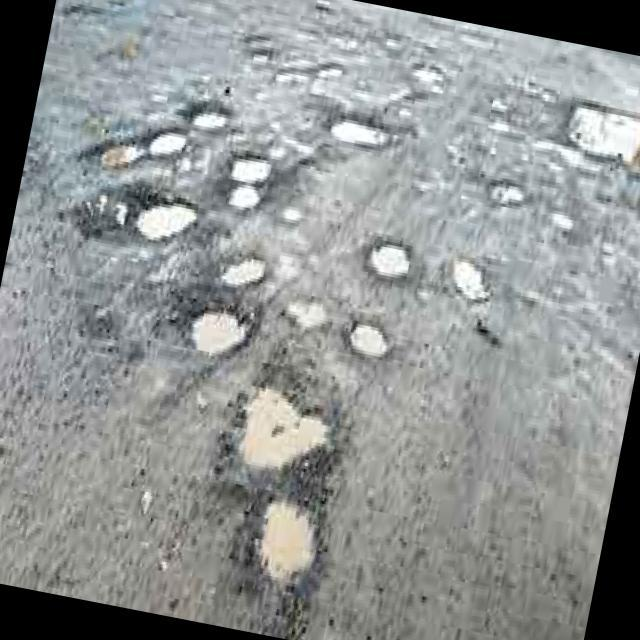Pothole: (224, 373, 356, 492), (76, 184, 216, 280), (239, 483, 345, 589), (555, 87, 640, 187), (252, 32, 352, 110), (172, 304, 268, 385), (439, 244, 515, 316), (318, 102, 400, 165), (353, 225, 432, 289), (274, 289, 348, 354), (93, 125, 159, 185), (204, 148, 290, 194), (482, 169, 554, 222), (211, 256, 286, 304), (410, 47, 474, 101), (527, 193, 587, 250), (344, 312, 399, 374), (214, 190, 278, 238), (180, 98, 240, 137), (238, 18, 286, 58), (241, 42, 293, 78), (482, 115, 528, 153), (140, 128, 195, 158), (484, 96, 529, 126)
